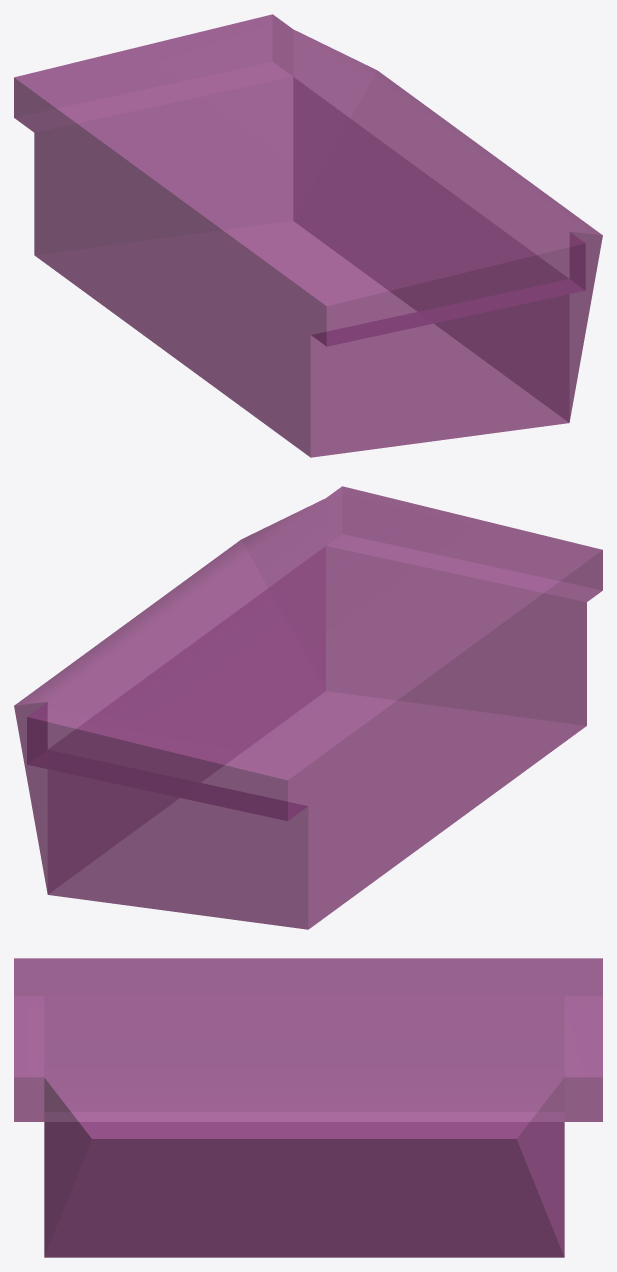
Rendered from SM_Bld_Bridge_Base_01_Damaged_03_Collision.fbx.
3 views of the same model, one above another, from view 1: azimuth 30°, elevation 25°; view 2: azimuth 150°, elevation 25°; view 3: azimuth 270°, elevation 25° (orthographic). The views are drawn at different scales.
Parts seen in each view (by area): view 1: SM_Bld_Bridge_Base_01_Damaged_03_Collision; view 2: SM_Bld_Bridge_Base_01_Damaged_03_Collision; view 3: SM_Bld_Bridge_Base_01_Damaged_03_Collision.
Part boxes in pixels (x1=…): SM_Bld_Bridge_Base_01_Damaged_03_Collision: x1=14, y1=14, x2=602, y2=457; SM_Bld_Bridge_Base_01_Damaged_03_Collision: x1=14, y1=486, x2=602, y2=929; SM_Bld_Bridge_Base_01_Damaged_03_Collision: x1=14, y1=958, x2=602, y2=1257.
Bounding box in the file's own units: 339 × 195 × 577.
